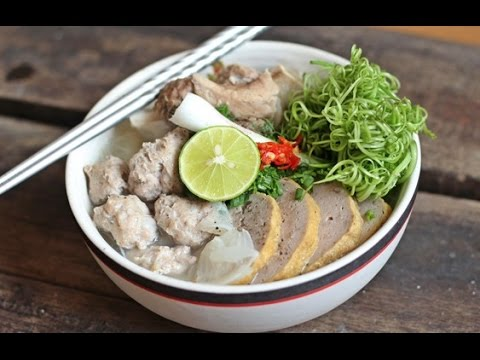chamoc: (221, 189, 281, 282), (124, 134, 177, 197), (153, 200, 218, 241)
chilli: (254, 131, 316, 179)
pork: (175, 62, 299, 115)
